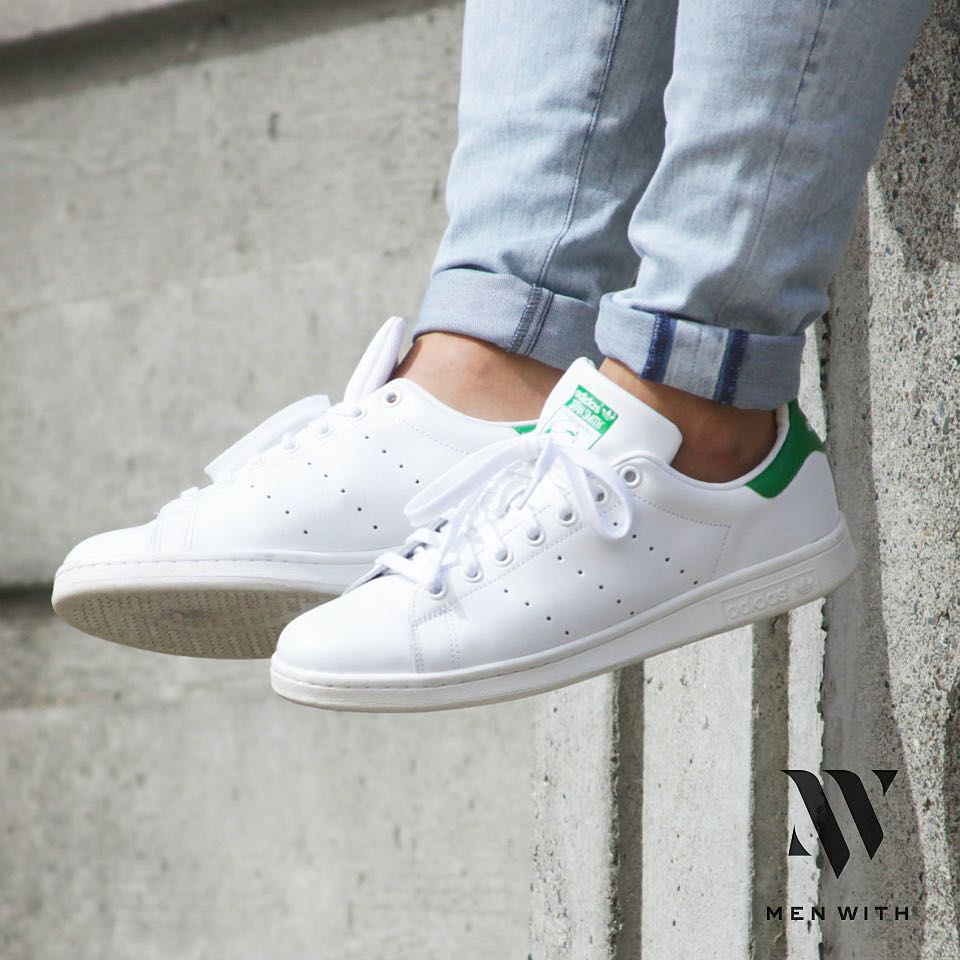sneaker: (237, 312, 886, 745), (29, 292, 610, 705)
